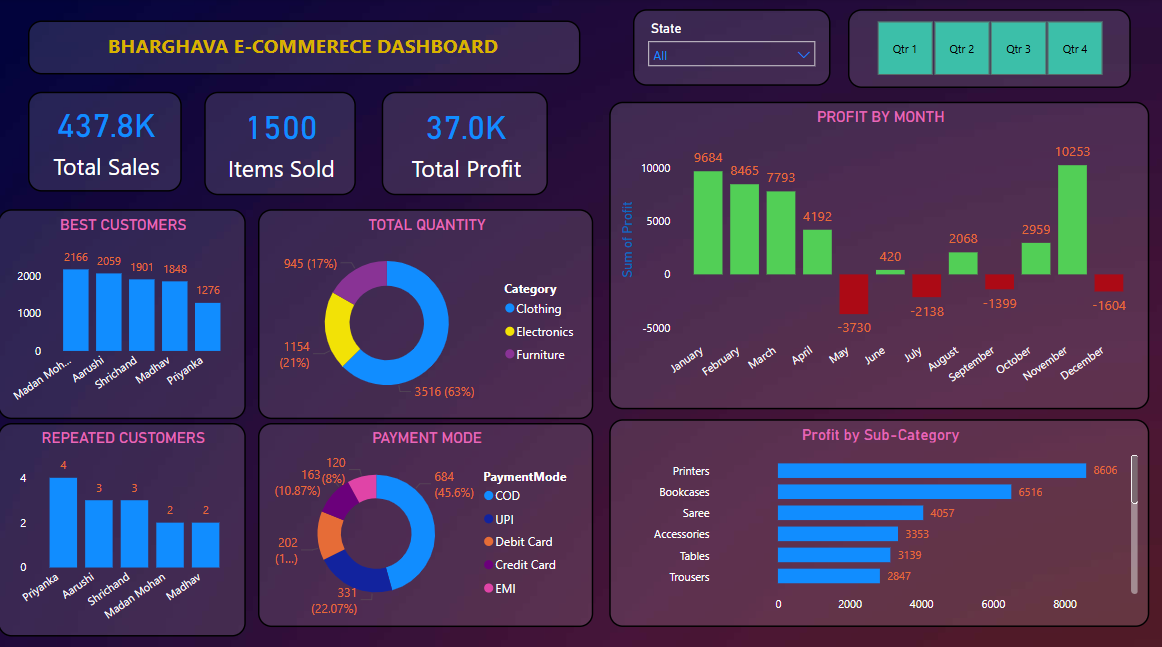

Layout of this report page (visuals, bound fields, positions):
{"tool":"powerbi","page":{"name":"Page 1","canvas":[1280,720],"ordinal":0},"visuals":[{"type":"textbox","box":[32.9,24.7,606.5,59],"z":0},{"type":"clusteredColumnChart","title":"PROFIT BY MONTH","fields":{"Y":["Details.Profit"],"Category":["Orders.Order Date.Variation.Date Hierarchy.Month"]},"box":[671,113.9,592.8,337.6],"z":1000},{"type":"donutChart","title":"PAYMENT MODE","fields":{"Category":["Details.PaymentMode"],"Y":["Details.Profit"]},"box":[285.4,466.6,367.8,223.7],"z":2000},{"type":"barChart","title":"Profit by Sub-Category","fields":{"Category":["Details.Sub-Category"],"Y":["Details.Profit"]},"box":[671,462.4,592.8,227.8],"z":3000},{"type":"donutChart","title":"TOTAL QUANTITY","fields":{"Y":["Details.Quantity"],"Category":["Details.Category"]},"box":[285.4,231.9,367.8,230.5],"z":4000},{"type":"clusteredColumnChart","title":"BEST CUSTOMERS","fields":{"Category":["Orders.CustomerName"],"Y":["Details.Profit"]},"box":[0,231.9,271.7,230.5],"z":5000},{"type":"card","fields":{"Values":["Details.Amount"]},"box":[32.9,102.9,168.8,109.8],"z":6000},{"type":"card","fields":{"Values":["Details.Quantity"]},"box":[226.4,102.9,166,113.9],"z":7000},{"type":"card","fields":{"Values":["Details.Profit"]},"box":[421.3,102.9,182.5,113.9],"z":8000},{"type":"slicer","fields":{"Values":["Orders.State"]},"box":[697.1,12.3,216.8,83.7],"z":9000},{"type":"slicer","fields":{"Values":["Orders.Order Date.Variation.Date Hierarchy.Quarter"]},"box":[933.1,12.3,310.1,86.4],"z":10000},{"type":"clusteredColumnChart","title":"REPEATED CUSTOMERS","fields":{"Category":["Orders.CustomerName"],"Y":["Orders.CustomerName"]},"box":[0,466.6,271.7,234.6],"z":10001}]}

Visuals, with their boxes in screenshot pixels (x1, y1, x2, y2), scaled from the page's 1280x720 canvas onto the 1162x647 screenshot:
textbox: l=30, t=22, r=580, b=75
"PROFIT BY MONTH" clusteredColumnChart: l=609, t=102, r=1147, b=406
"PAYMENT MODE" donutChart: l=259, t=419, r=593, b=620
"Profit by Sub-Category" barChart: l=609, t=416, r=1147, b=620
"TOTAL QUANTITY" donutChart: l=259, t=208, r=593, b=416
"BEST CUSTOMERS" clusteredColumnChart: l=0, t=208, r=247, b=416
card - Details.Amount: l=30, t=92, r=183, b=191
card - Details.Quantity: l=206, t=92, r=356, b=195
card - Details.Profit: l=382, t=92, r=548, b=195
slicer - Orders.State: l=633, t=11, r=830, b=86
slicer - Orders.Order Date.Variation.Date Hierarchy.Quarter: l=847, t=11, r=1129, b=89
"REPEATED CUSTOMERS" clusteredColumnChart: l=0, t=419, r=247, b=630
